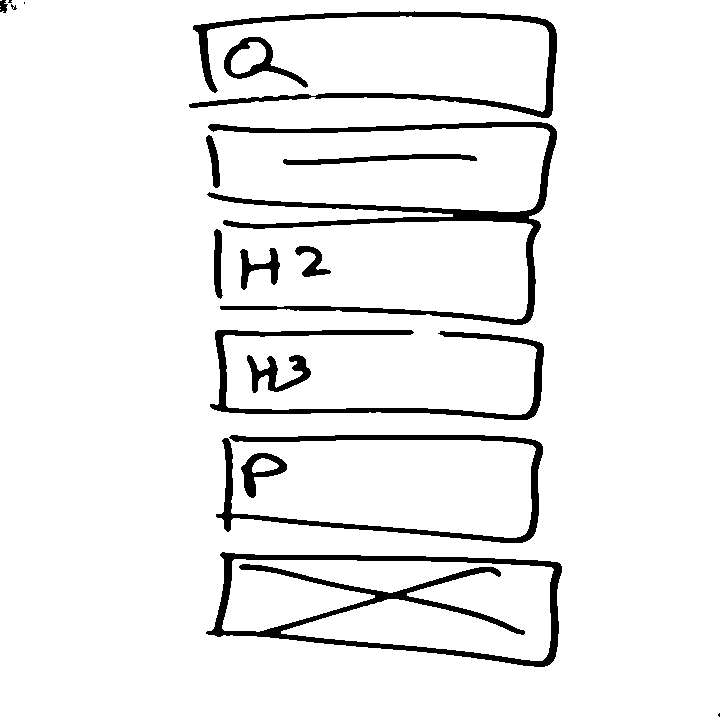button: (200, 117, 562, 219)
heading2: (210, 215, 548, 328)
heading3: (206, 325, 551, 424)
paragraph: (217, 432, 549, 547)
picture: (204, 548, 570, 676)
search bar: (181, 9, 563, 119)
